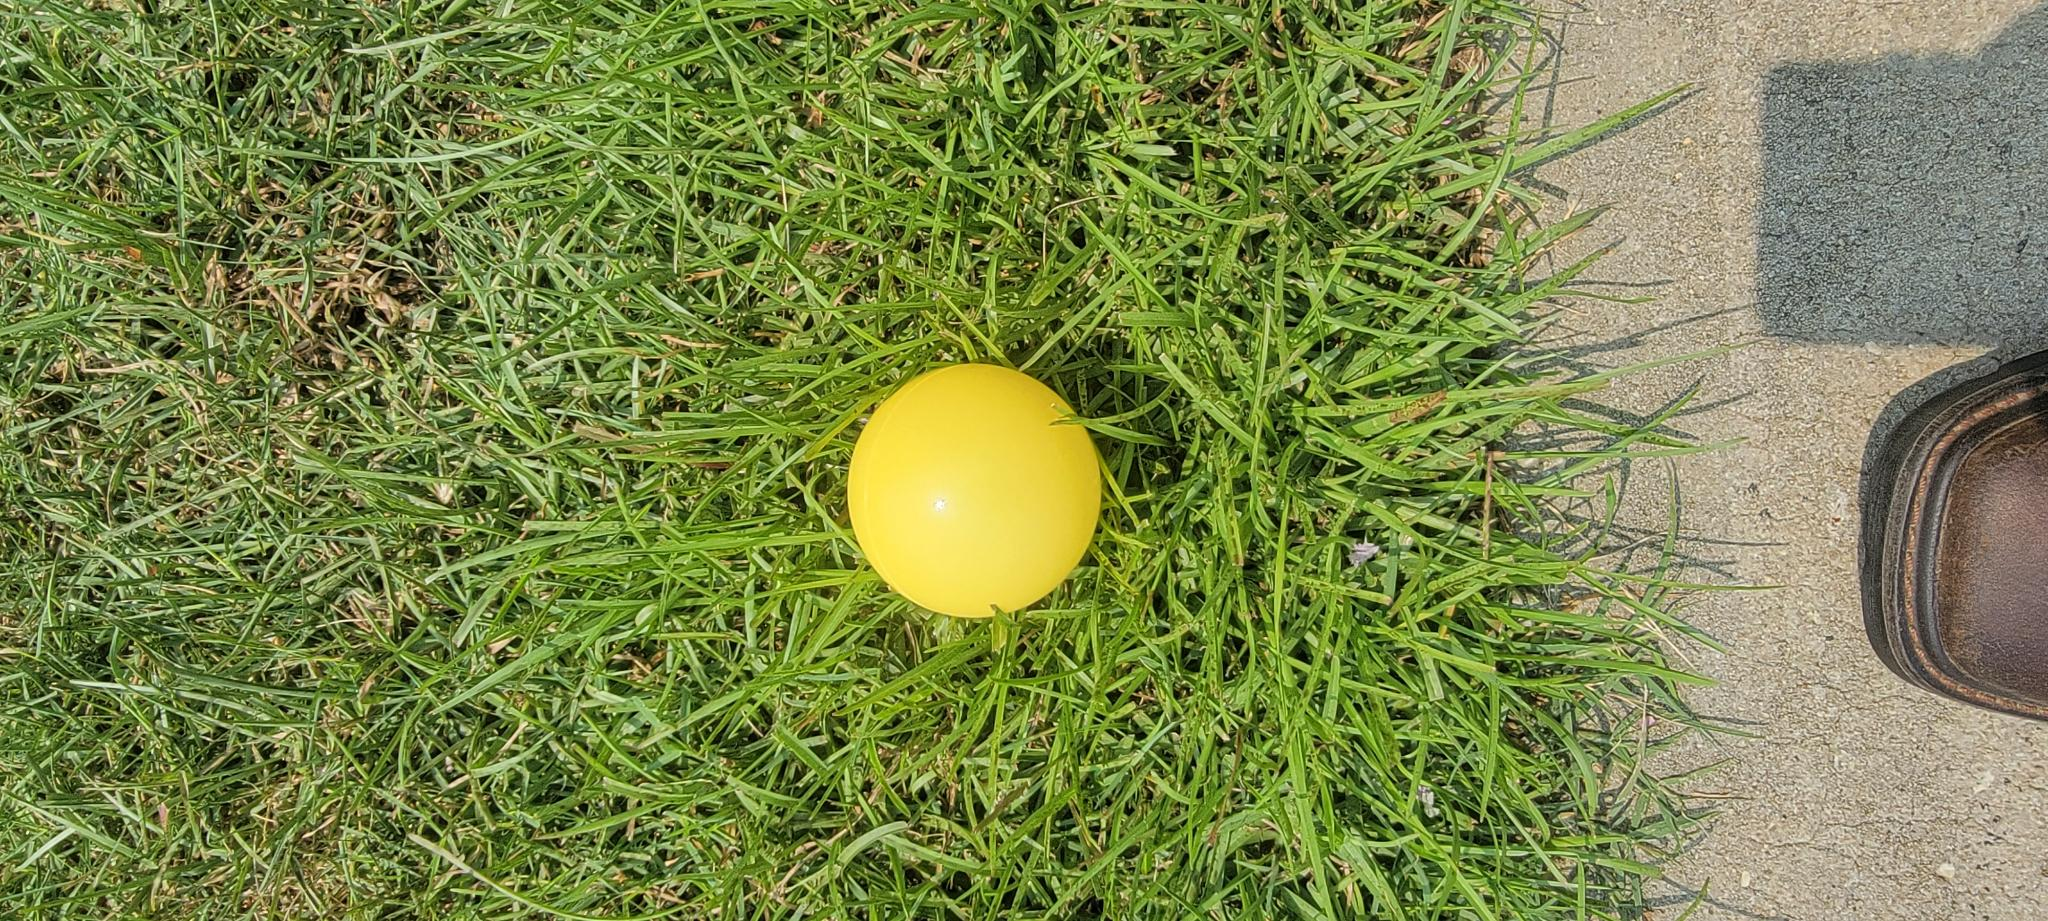Yellow-Ball: (307, 846, 557, 921)
